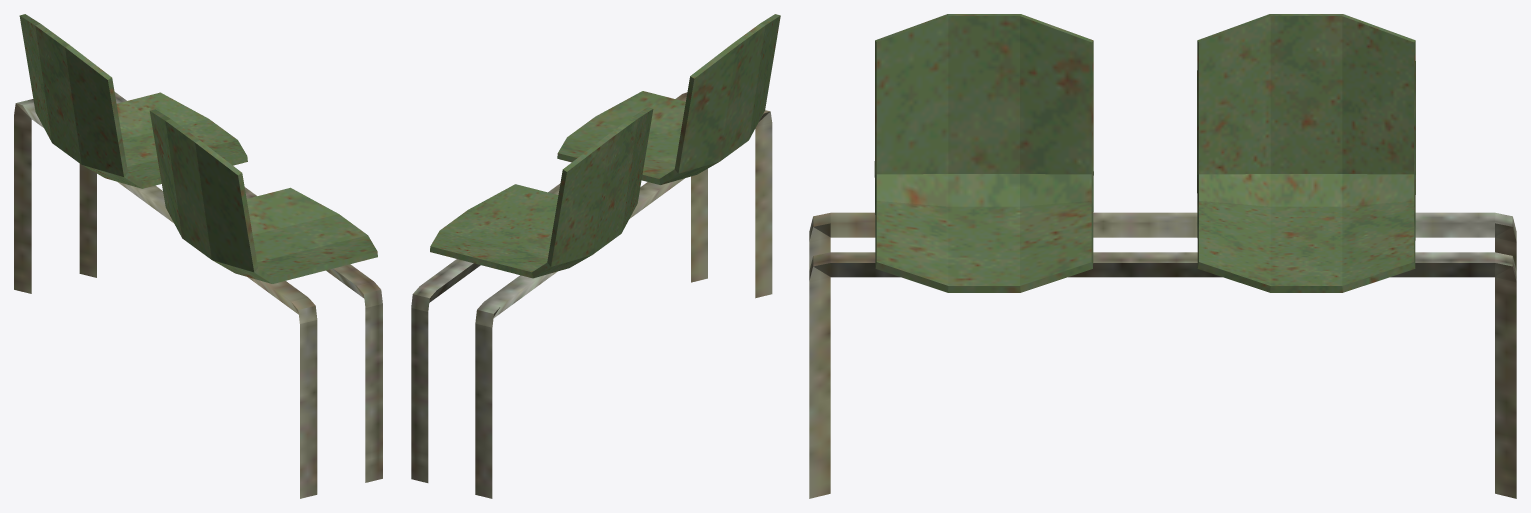
Rendered from Urban_BusstopTwoSeatsAlt_Model.fbx.
3 renders of one model, left to right at view 1: azimuth 30°, elevation 25°; view 2: azimuth 150°, elevation 25°; view 3: azimuth 270°, elevation 25°, orthographic. The views are drawn at different scales.
Visible parts, largest first — view 1: Urban_BusstopTwoSeatsAlt_Mesh; view 2: Urban_BusstopTwoSeatsAlt_Mesh; view 3: Urban_BusstopTwoSeatsAlt_Mesh.
Boxes of the visible parts, x1,y1,x2,y2 form: Urban_BusstopTwoSeatsAlt_Mesh: [14, 14, 382, 498]; Urban_BusstopTwoSeatsAlt_Mesh: [411, 14, 780, 498]; Urban_BusstopTwoSeatsAlt_Mesh: [809, 14, 1516, 498].
Size of the model in its own units: 0.692 by 1.25 by 1.98.
